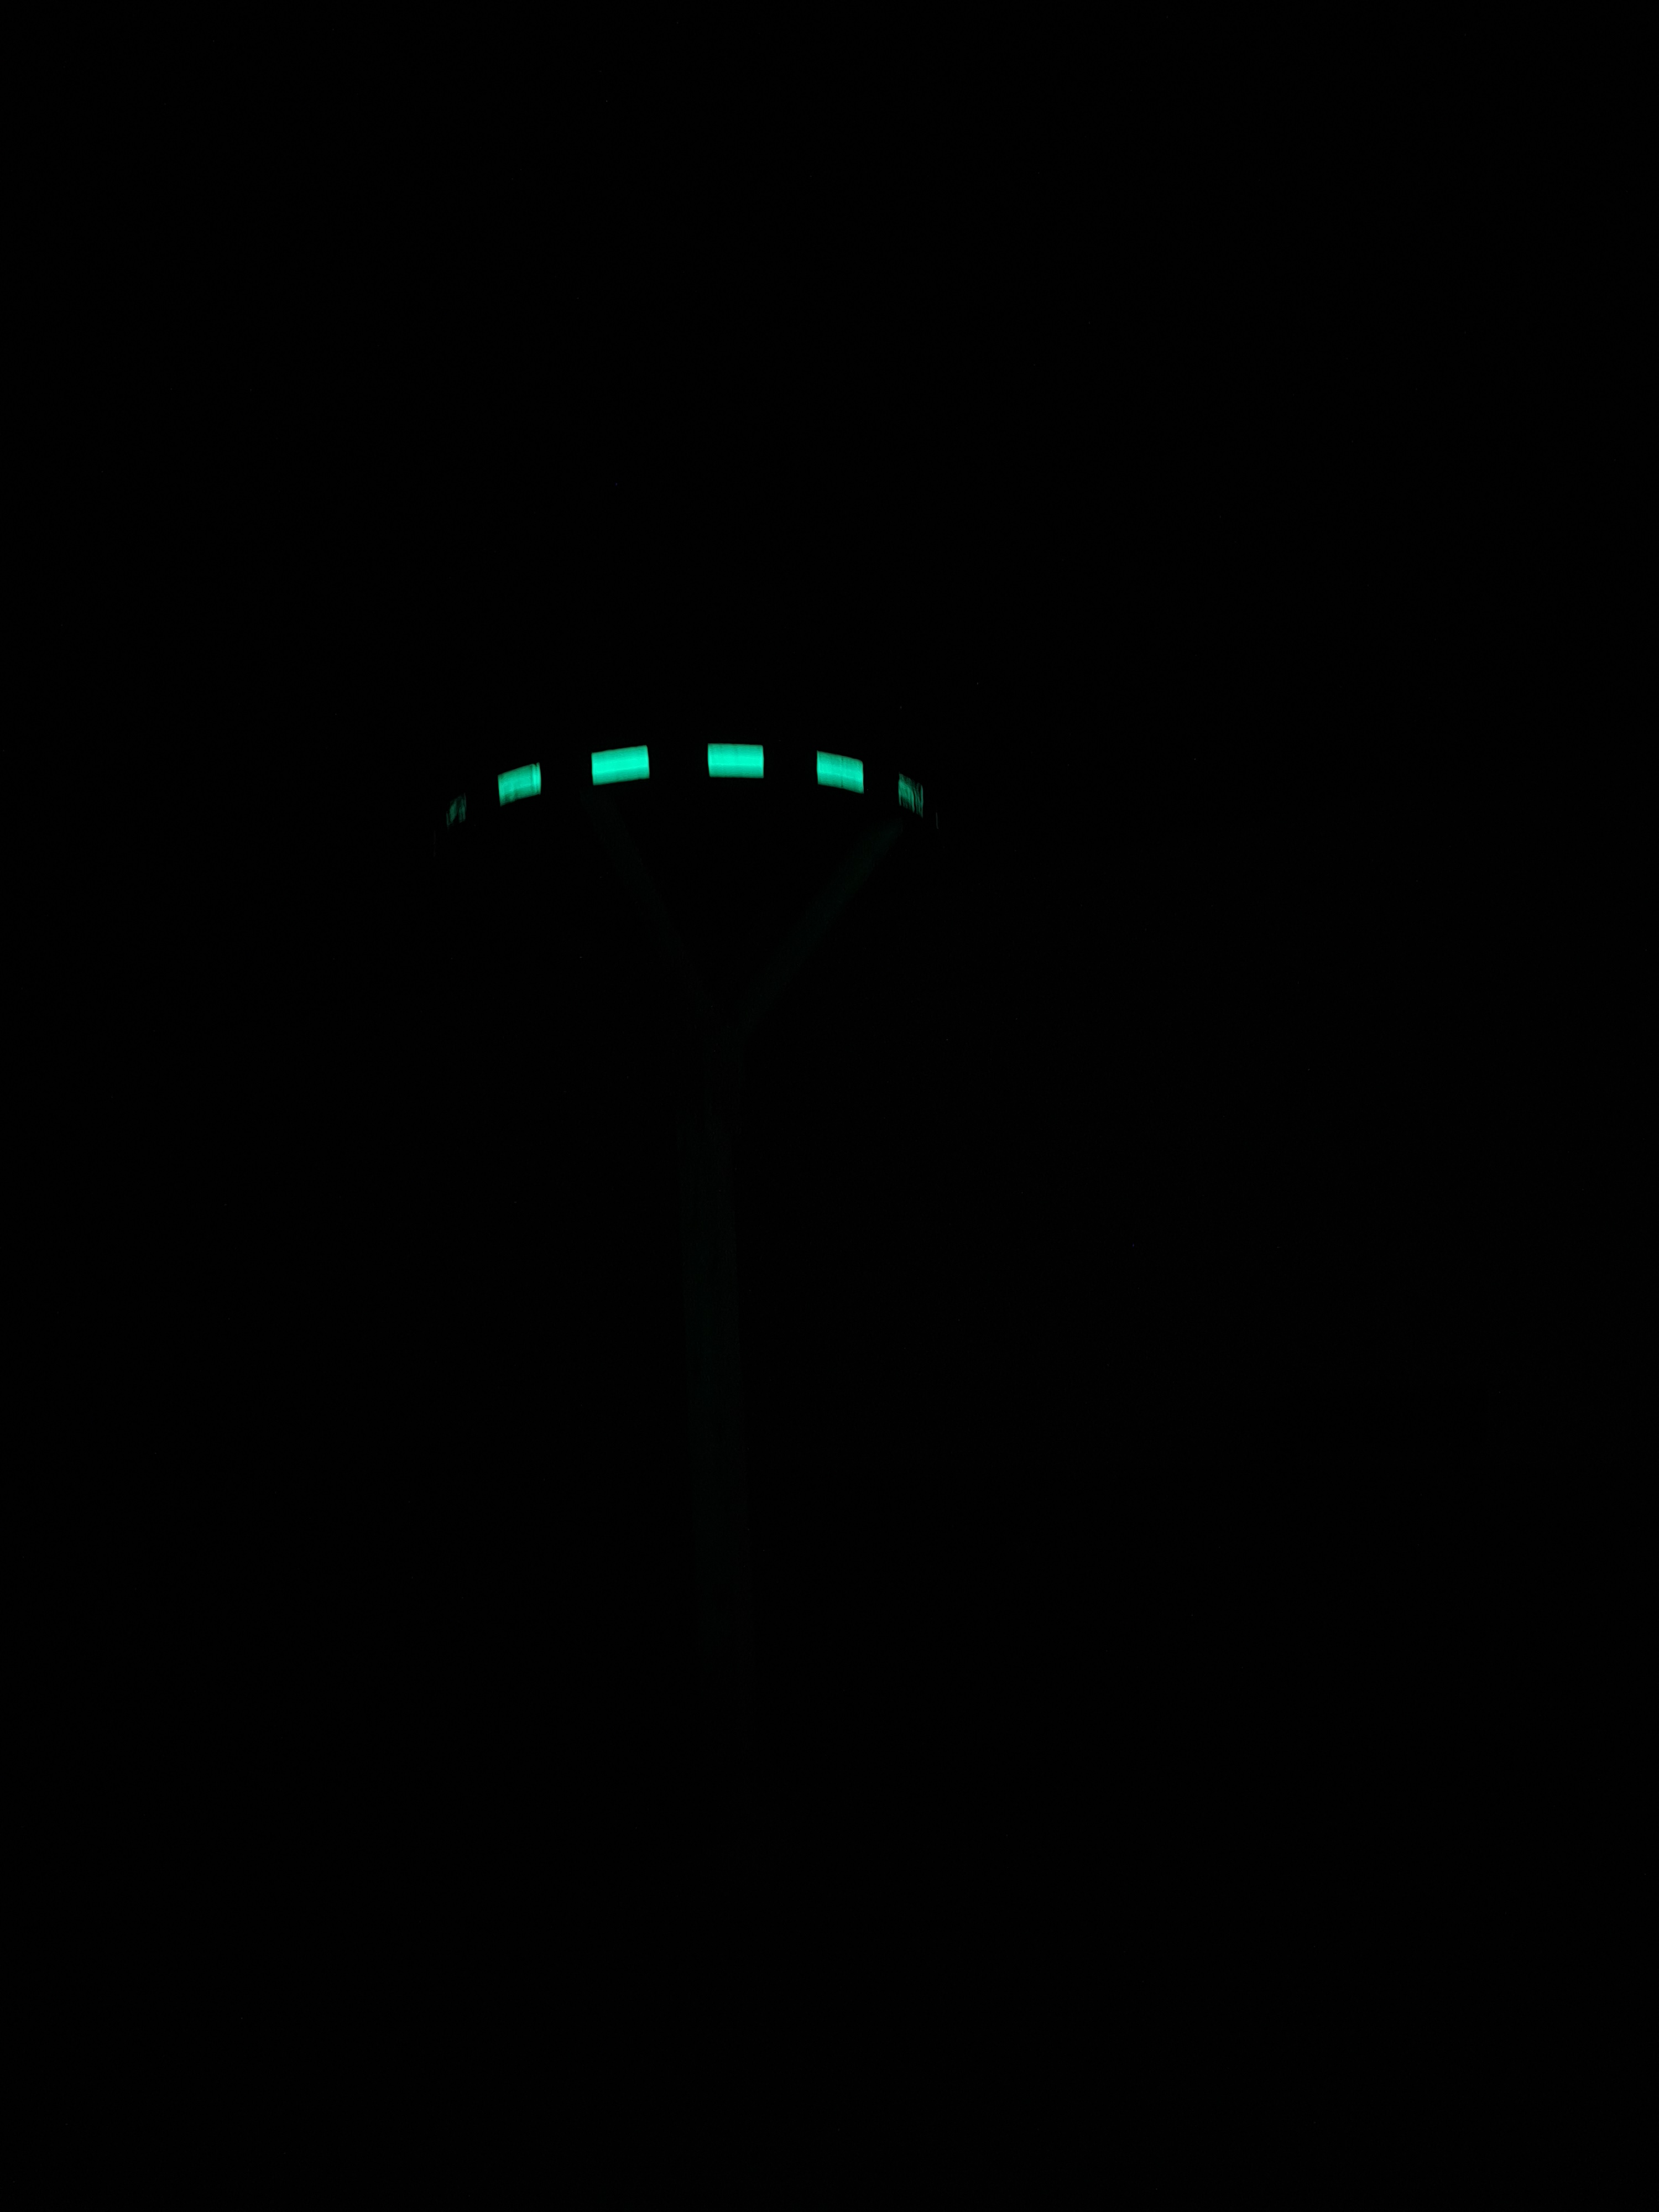hoop: (432, 742, 929, 827)
